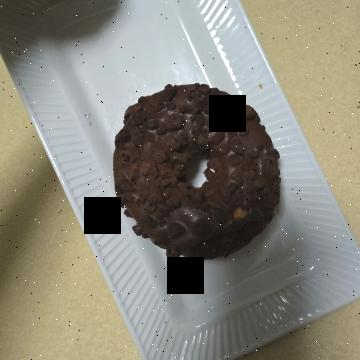doughnut: (80, 75, 282, 262)
